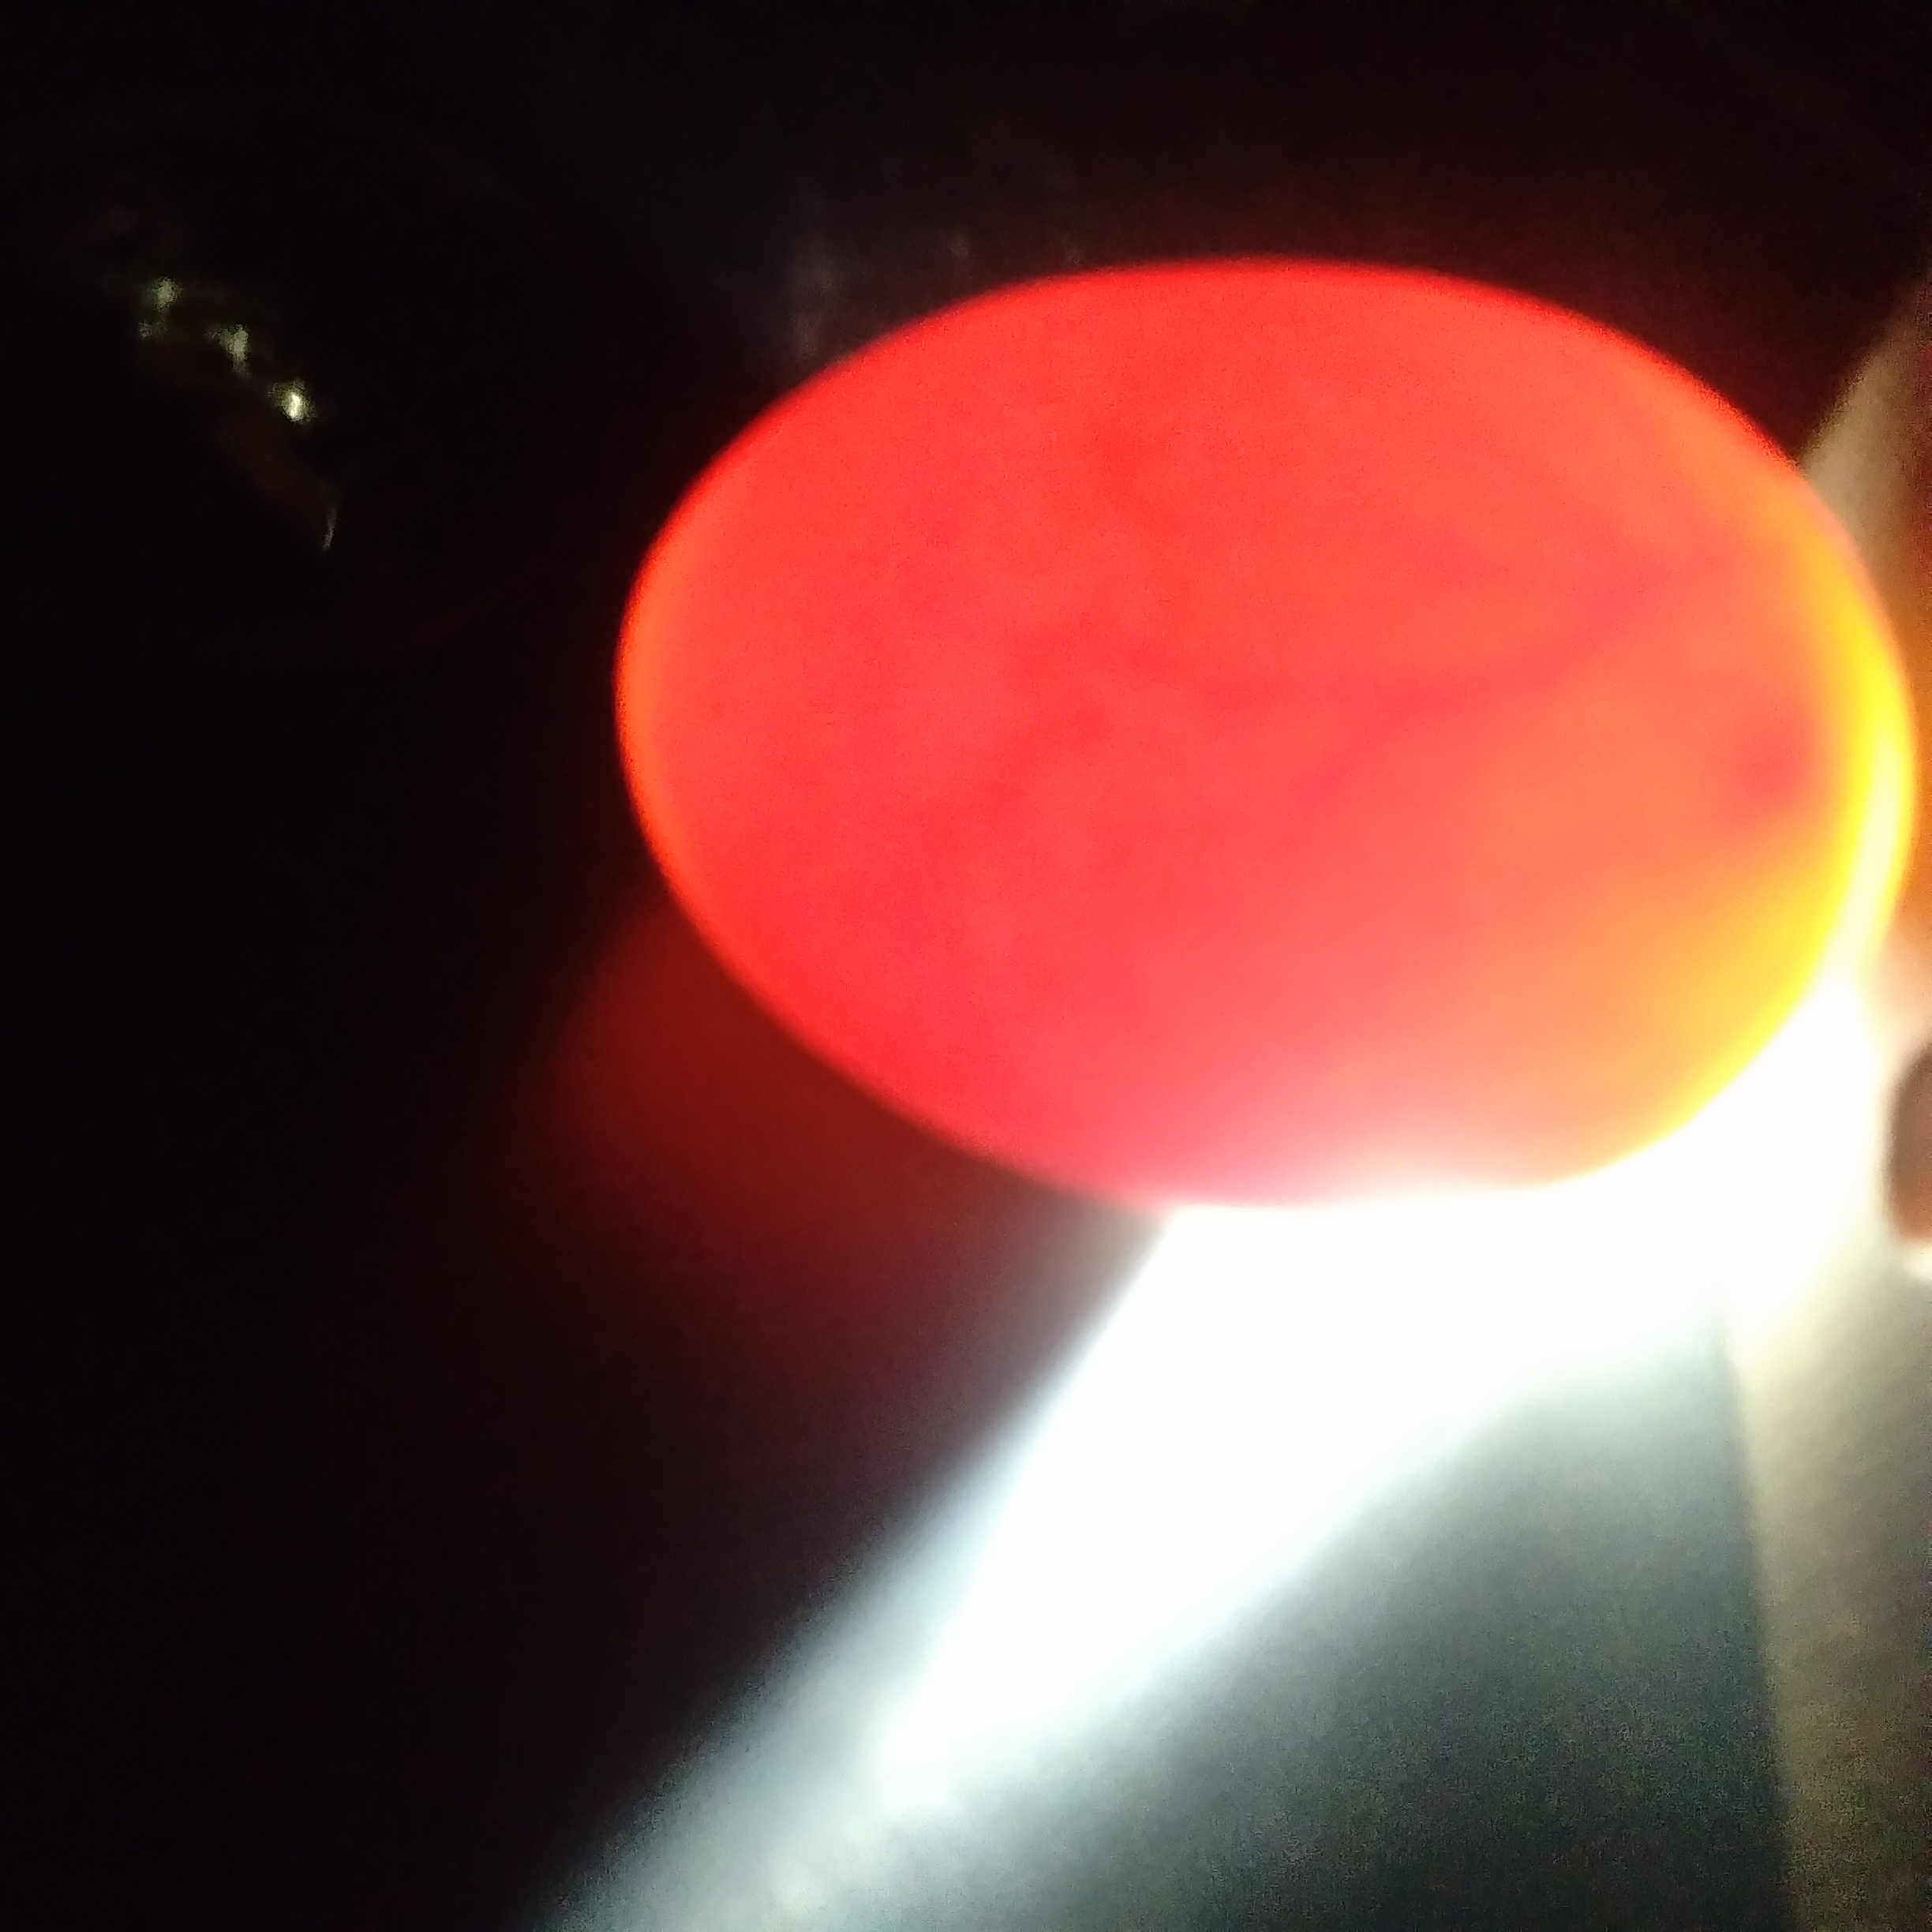bloodcell: (1422, 464, 1704, 1053)
embryo: (1757, 702, 1842, 869)
